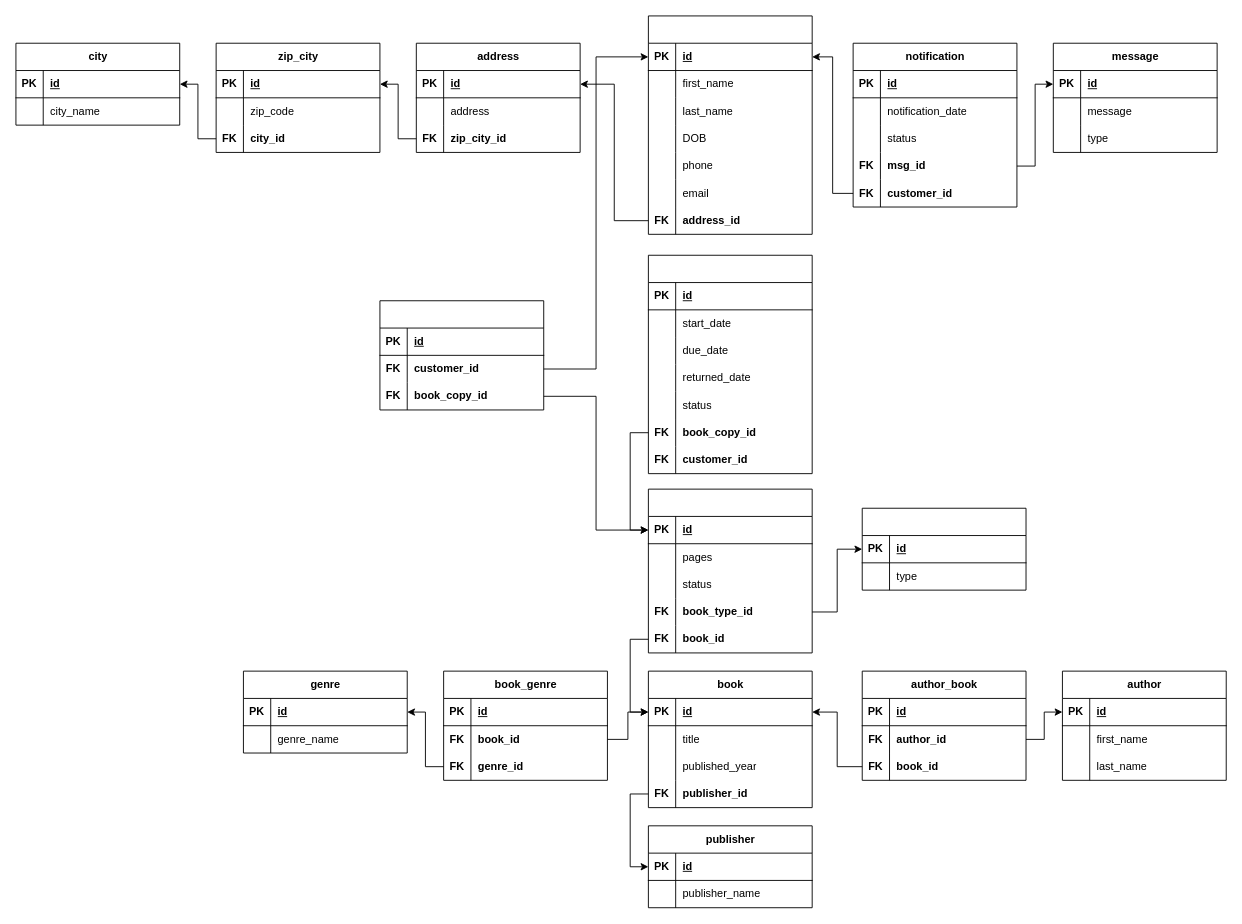
The diagram is 1242 pixels wide and 924 high, and some of its shapes have lost their labels. The shapes that lost their labels are listed below. From the top down, each one's box as (x1, y1, x2, y2) in pixels, then its label:
(647, 15, 812, 234): customer
(379, 300, 544, 410): wait_list
(647, 254, 812, 474): rental
(861, 507, 1026, 590): book_type
(647, 488, 812, 653): book_copy
